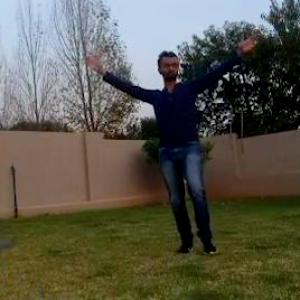takeoff: (83, 17, 270, 266)
